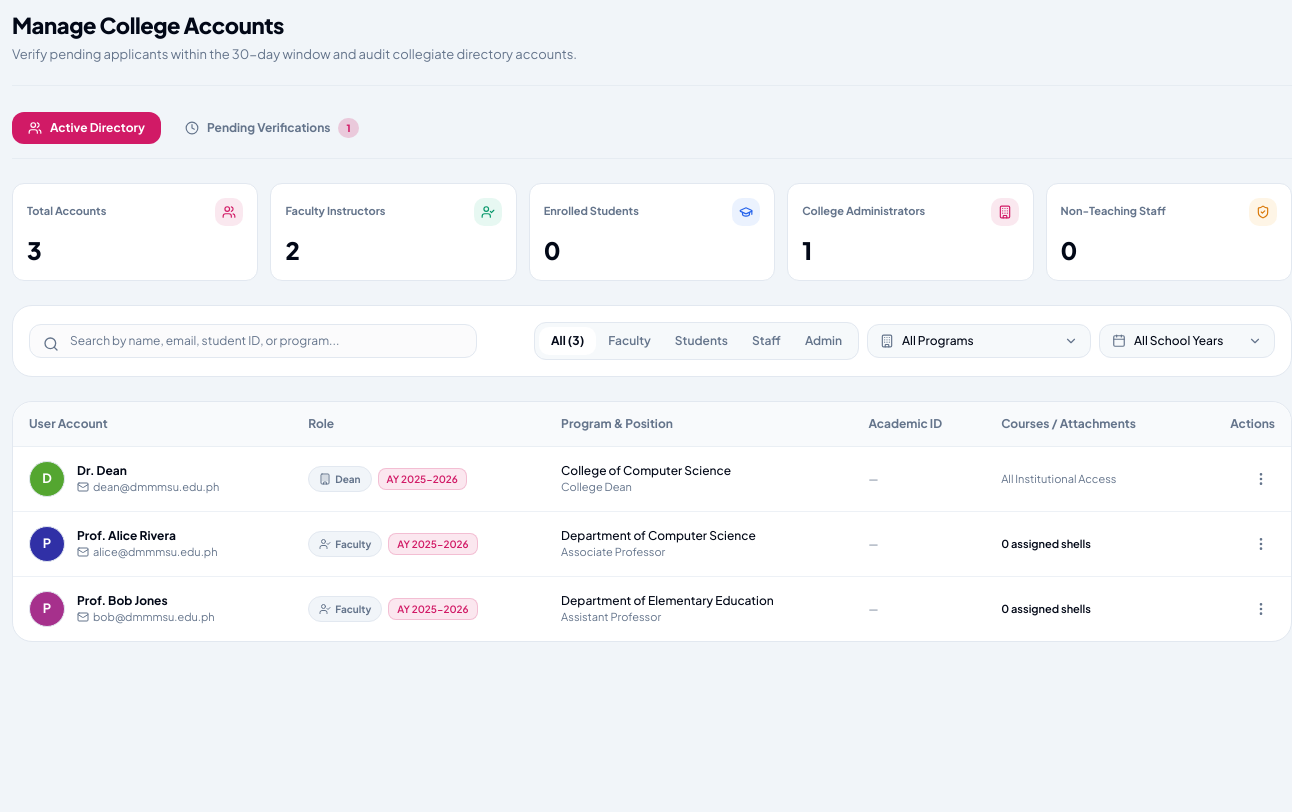
Test: ManageAccountsPage RBAC & Verification Queue › 3. verifies Chairperson only sees pending applicants from their department
What coordinates should you click on to do the following:
click the tab "Pending Verifications 1"
I would click on:
 (272, 128)
Its box is [169, 110, 375, 146].
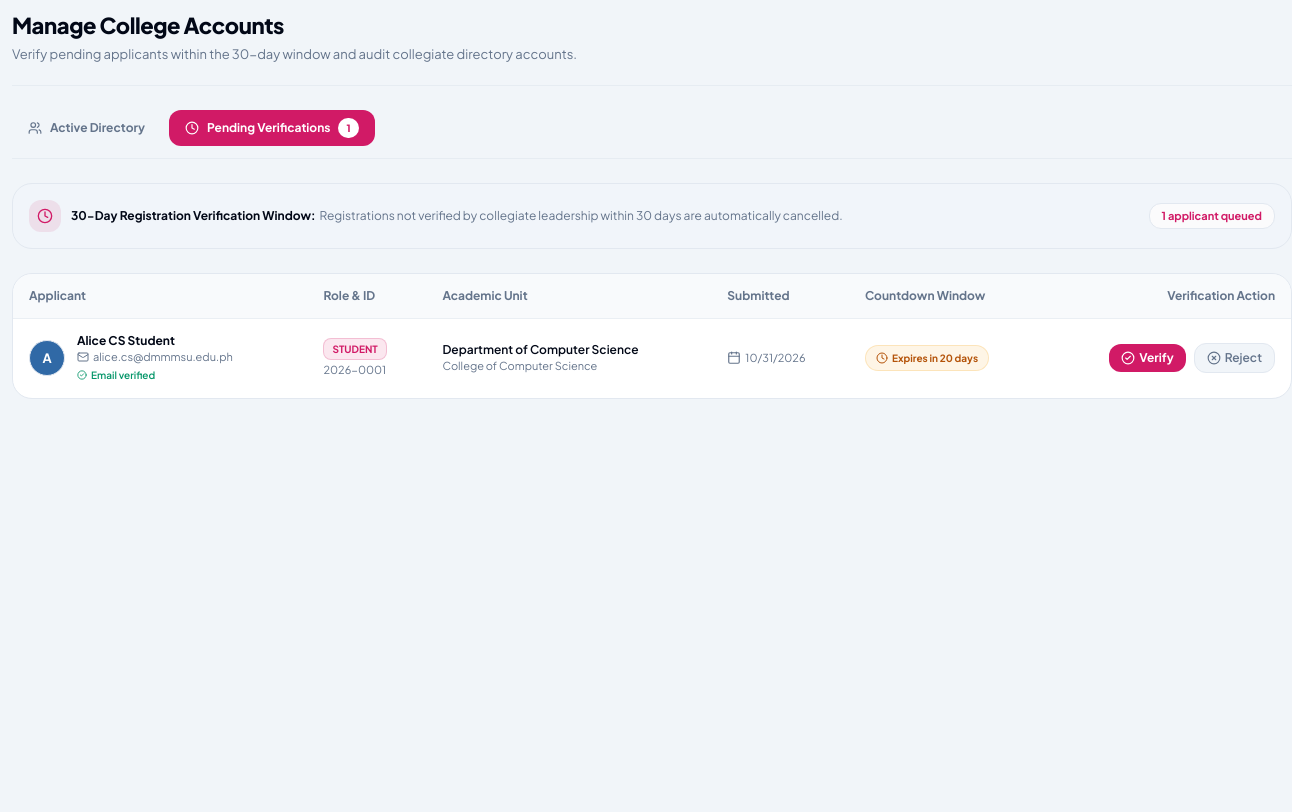
expect the text "Alice CS Student" is shown: met, box [77, 333, 175, 348]
